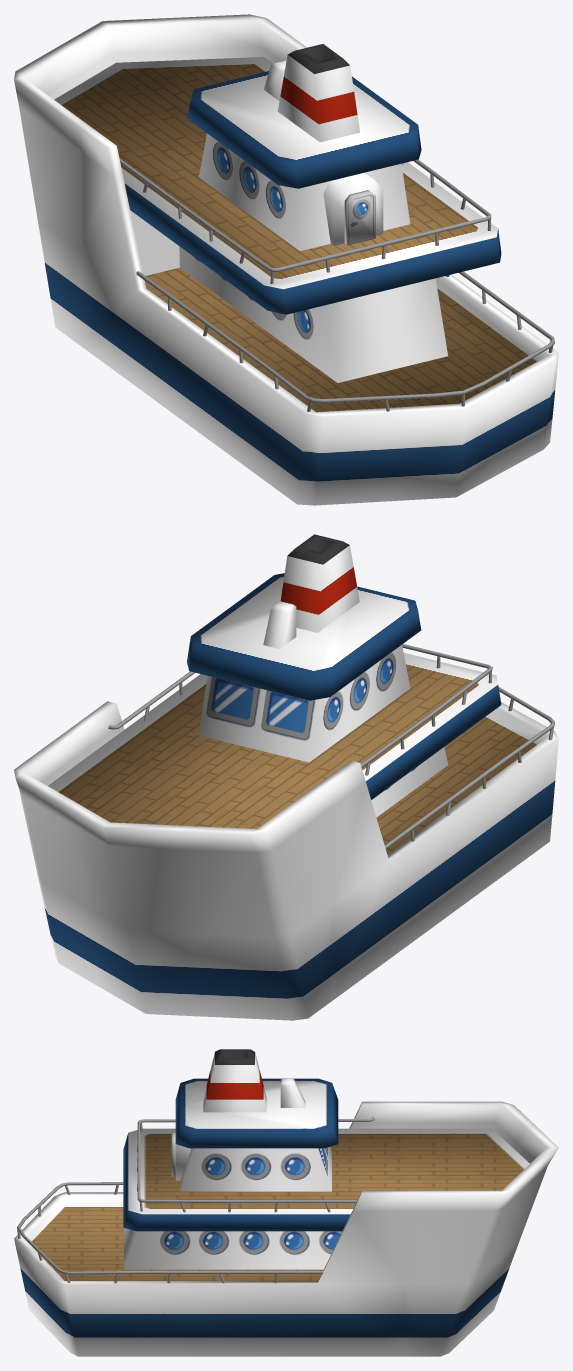
The model's file is cozyjam_env_room_deck_a_v002.fbx.
3 views of the same model, one above another, from view 1: azimuth 30°, elevation 25°; view 2: azimuth 150°, elevation 25°; view 3: azimuth 270°, elevation 25° (orthographic). The views are drawn at different scales.
Parts seen in each view (by area): view 1: cruise ship mesh, door mesh; view 2: cruise ship mesh; view 3: cruise ship mesh.
Boxes of the visible parts, bbox=[...] form: cruise ship mesh: bbox=[14, 14, 558, 505]; door mesh: bbox=[344, 190, 375, 245]; cruise ship mesh: bbox=[14, 534, 558, 1020]; cruise ship mesh: bbox=[14, 1049, 558, 1356].
Size of the model in its own units: 1374 by 1777 by 3426.
1 material, 1 textured.
